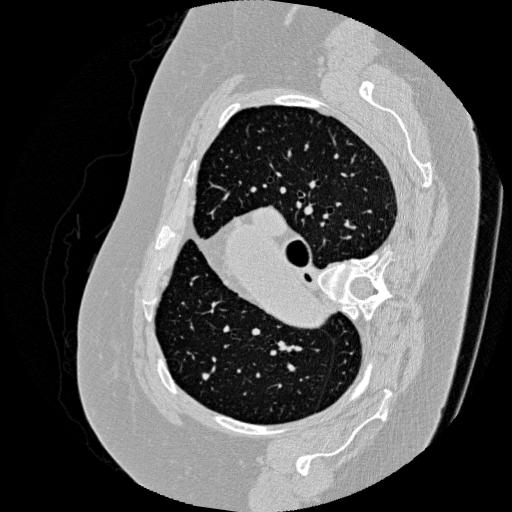nodule: (200, 370, 212, 382)
